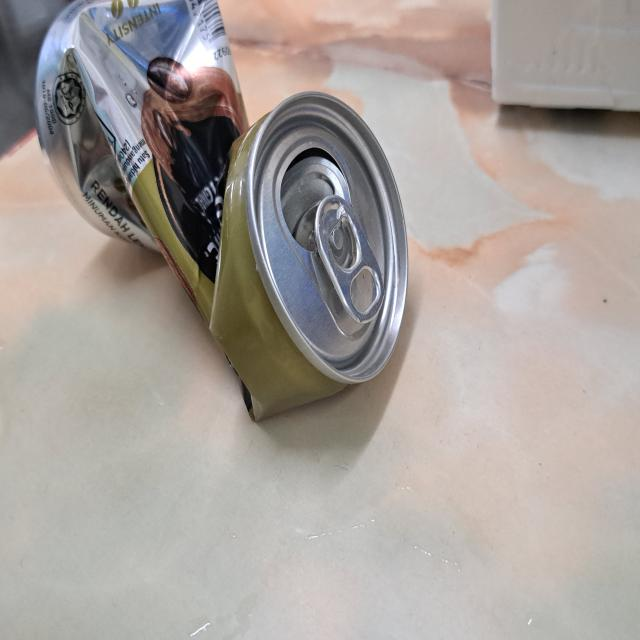can: (32, 0, 412, 422)
pop tab: (315, 196, 385, 321)
